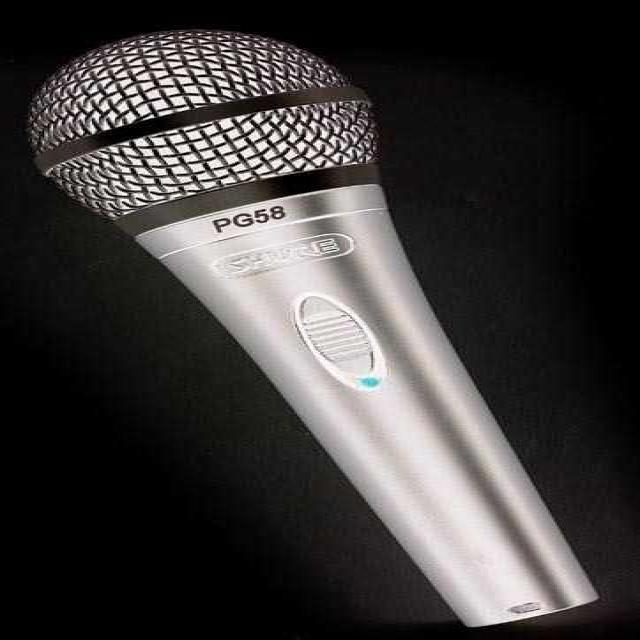microphone: (27, 29, 591, 629)
